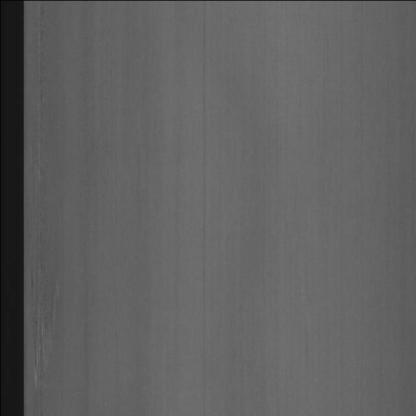silk_spot: (27, 266, 65, 392)
